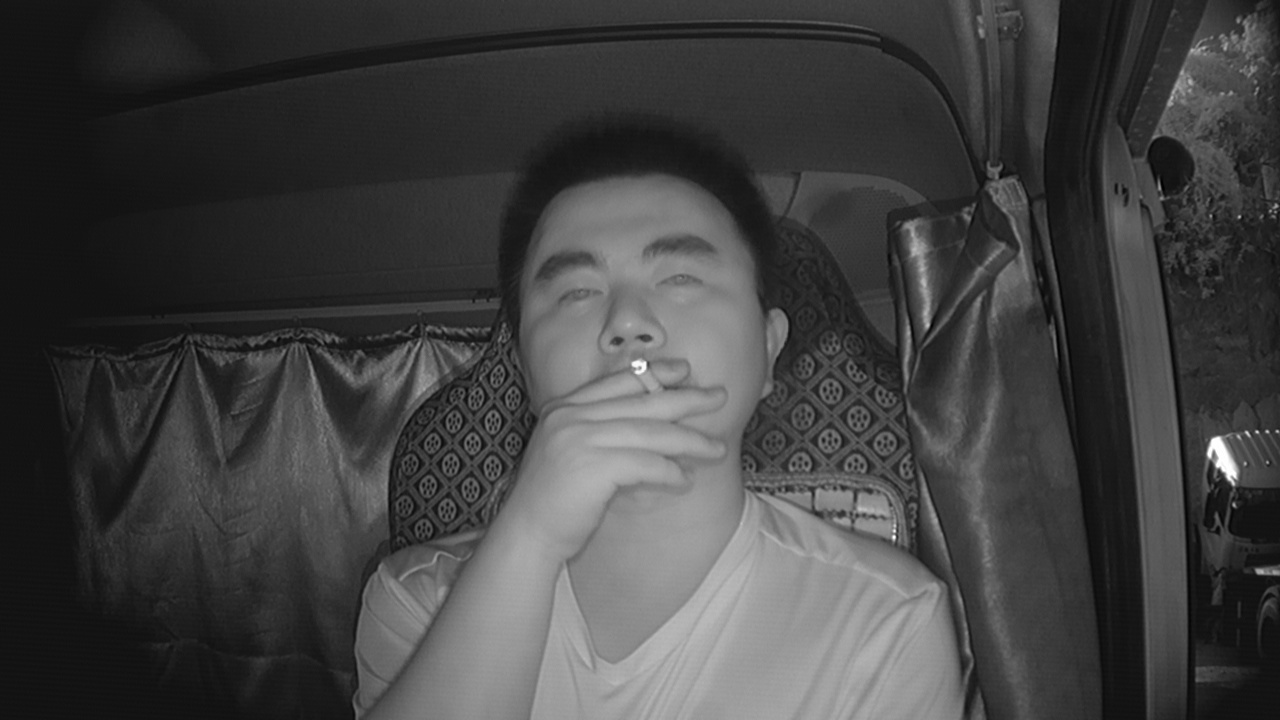hand: (529, 361, 730, 497)
